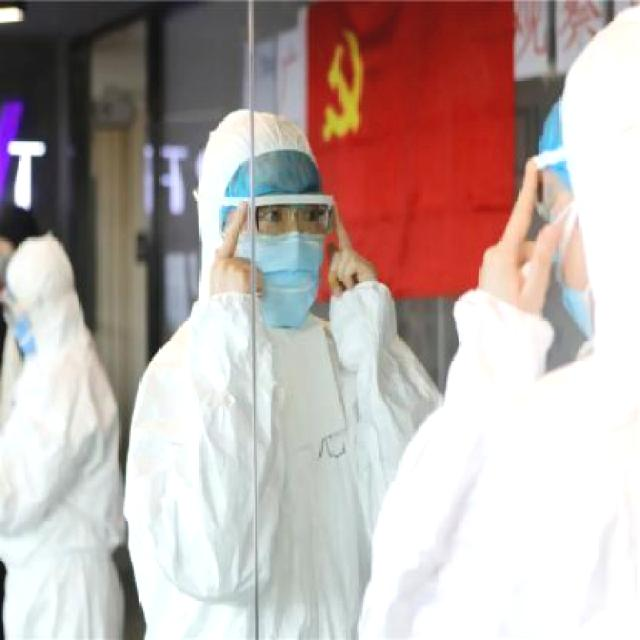face_mask: (242, 200, 328, 337)
glasses: (242, 190, 342, 248)
hand_noglove: (474, 157, 558, 317), (320, 202, 378, 303), (209, 200, 265, 303)
